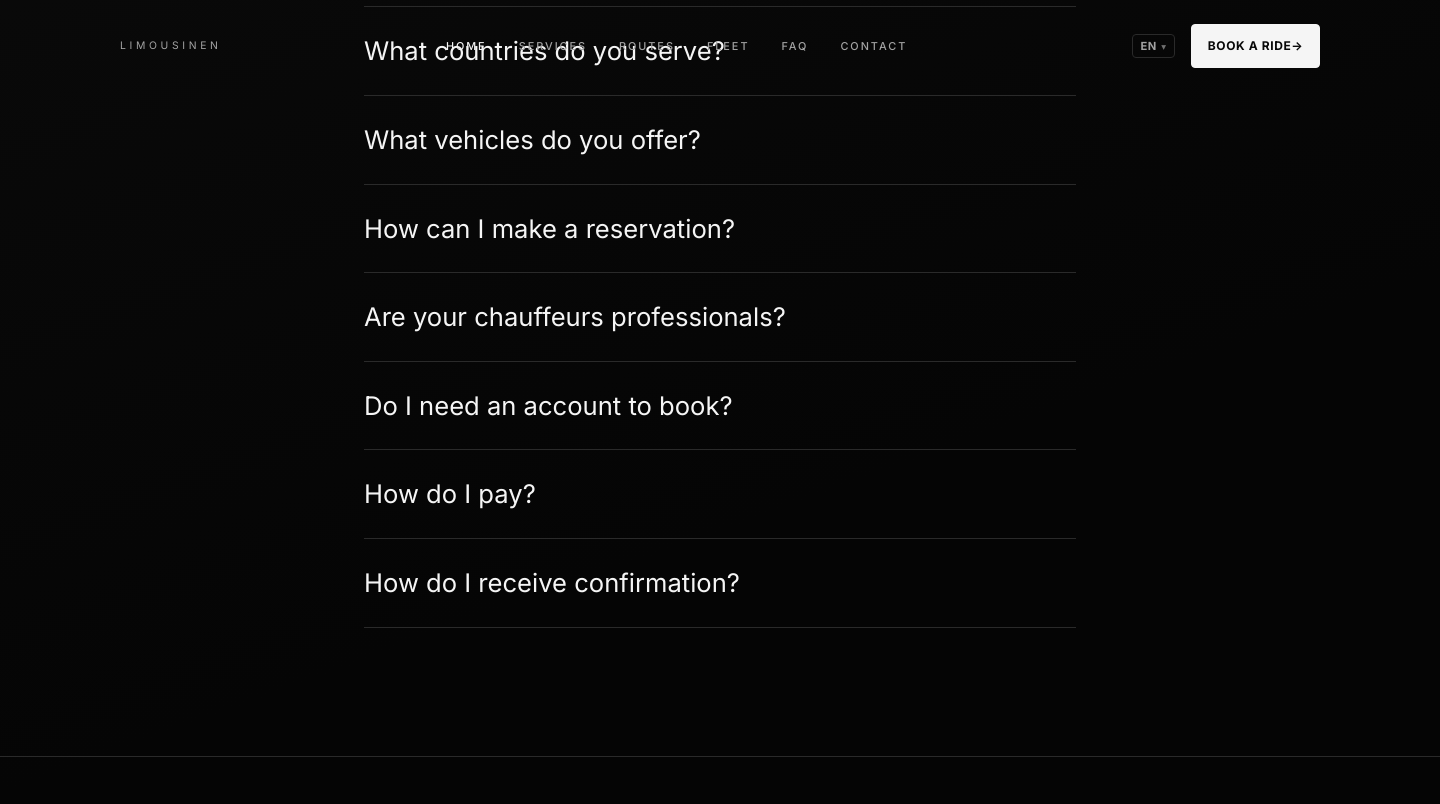
Test case: FAQPage › reveals the answer when a question's summary is activated
(page scrolled)
Click the heading "Do I need an account to book?".
click(548, 405)  # box [364,390,733,421]
(page scrolled)
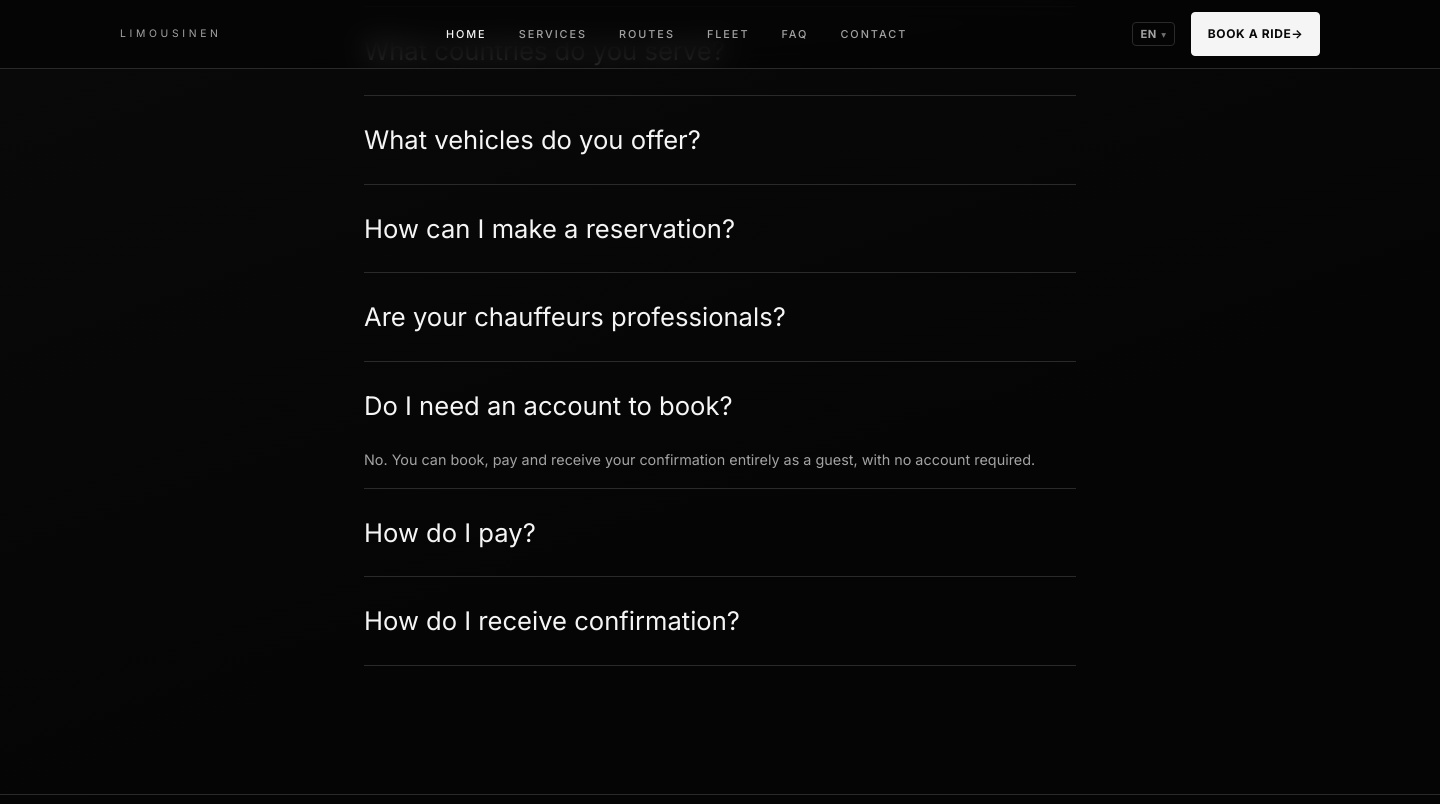
Check: the text "You can book, pay and receive your confirmation entirely as a guest," is shown, box [364,452,1035,468]
